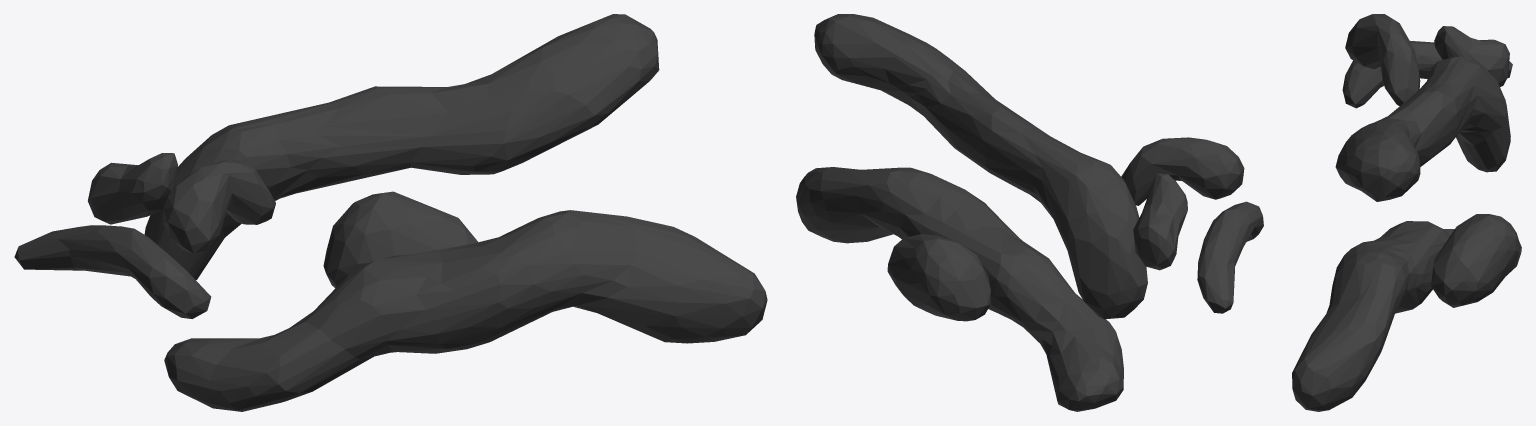
File: nodes_lymph_jejunal2_LP.glb
3 renders of one model, left to right at view 1: azimuth 30°, elevation 25°; view 2: azimuth 150°, elevation 25°; view 3: azimuth 270°, elevation 25°, orthographic. The views are drawn at different scales.
Parts seen in each view (by area): view 1: nodes_lymph_jejunal2_LP; view 2: nodes_lymph_jejunal2_LP; view 3: nodes_lymph_jejunal2_LP.
Part boxes in pixels (x1,y1,x2,y2): nodes_lymph_jejunal2_LP: (14,14,767,411); nodes_lymph_jejunal2_LP: (796,14,1263,411); nodes_lymph_jejunal2_LP: (1292,14,1521,411).
Size of the model in its own units: 0.00259 by 0.00131 by 0.00102.
1 material, 1 textured.
